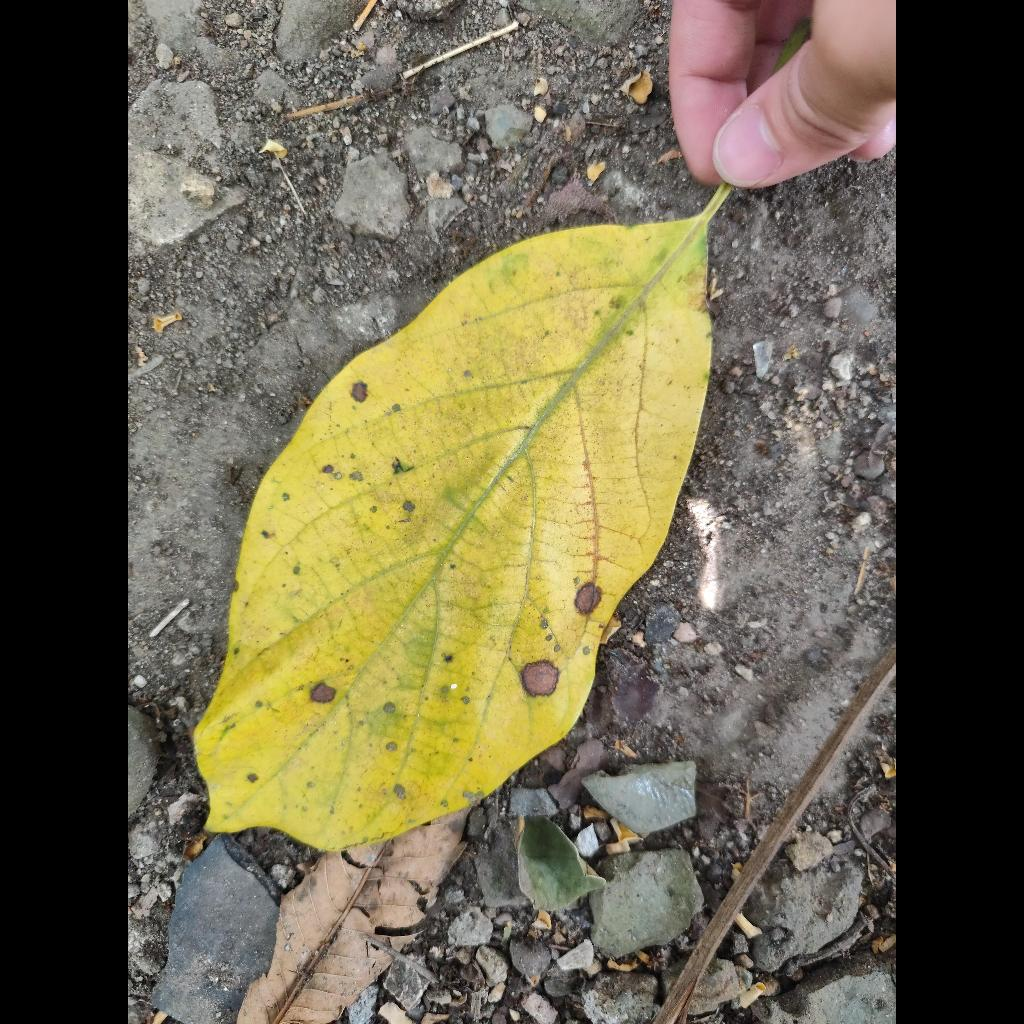deficiencia_nutricional: (195, 190, 727, 850)
